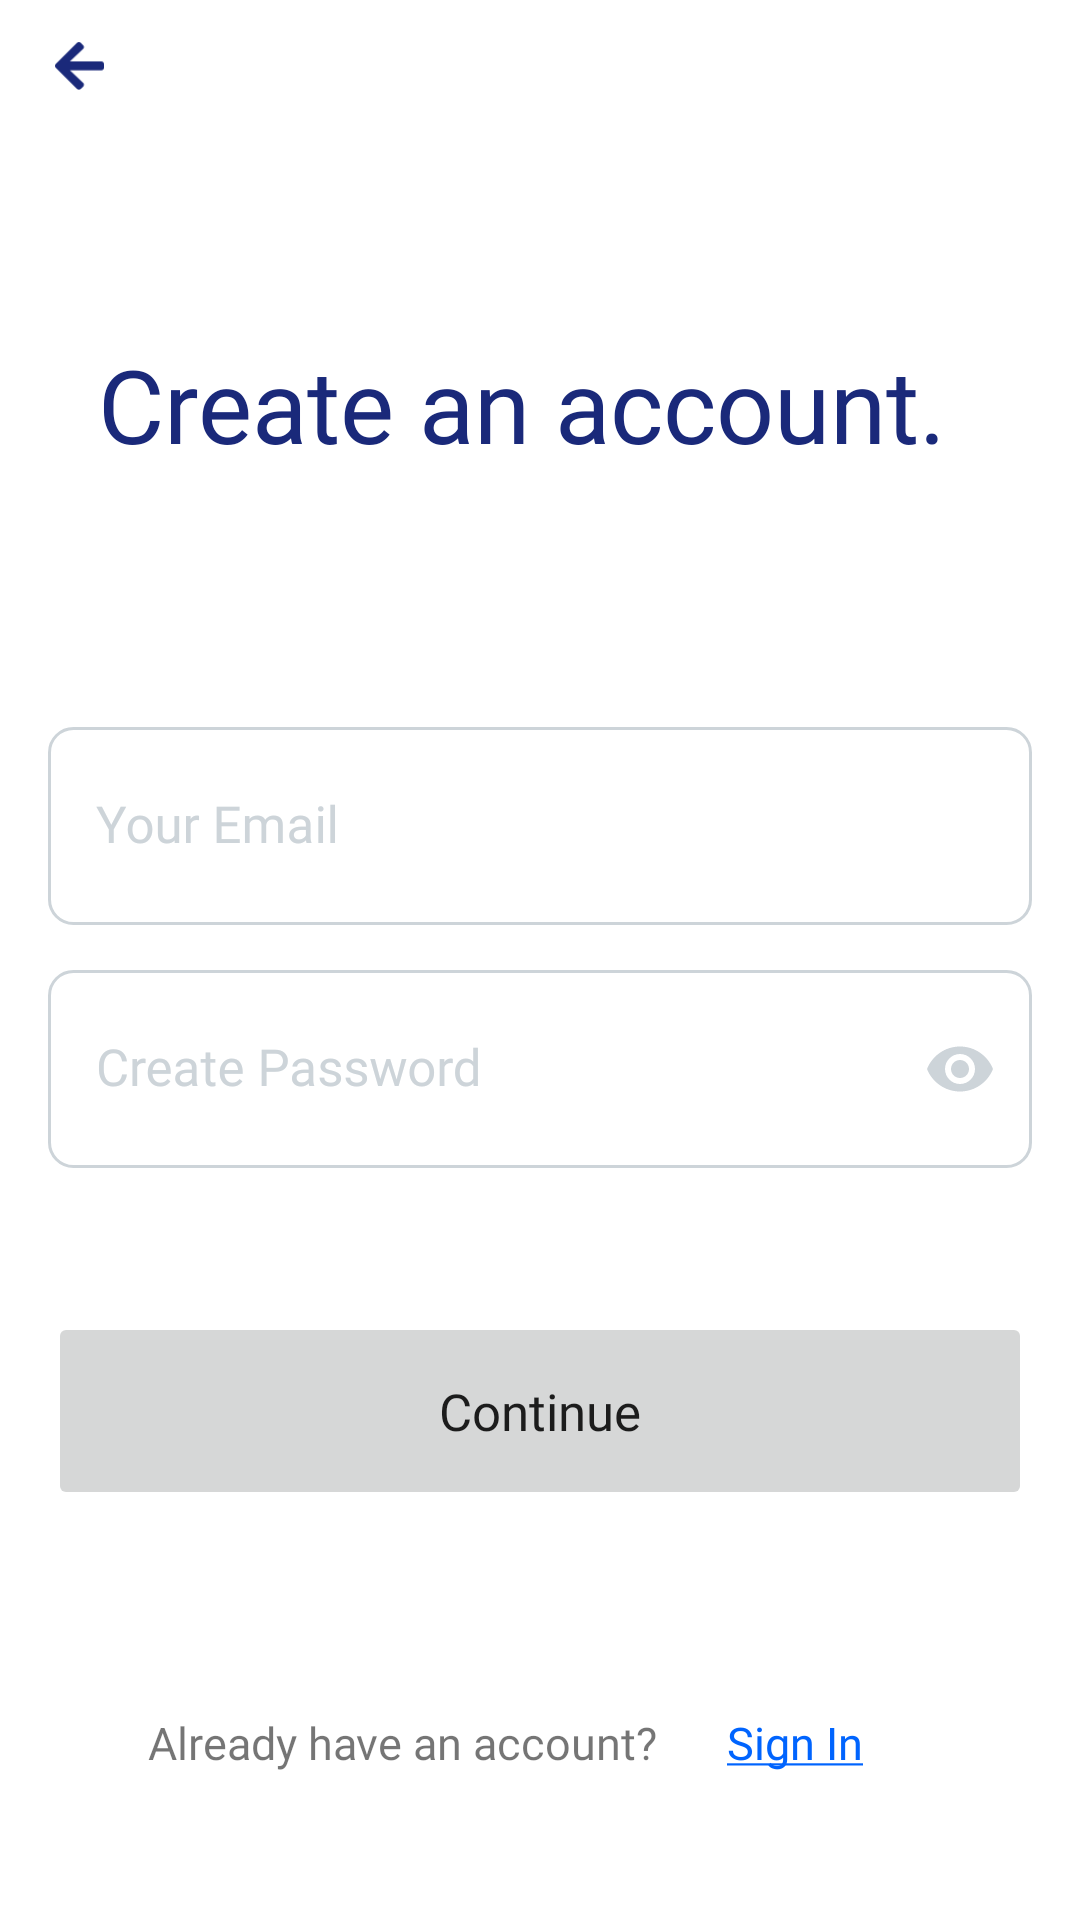

Screen size 1080px×1920px. Icon name, then its box in pixels as [x1, y1, x2, y2]:
arrow back: [55, 42, 104, 90]
